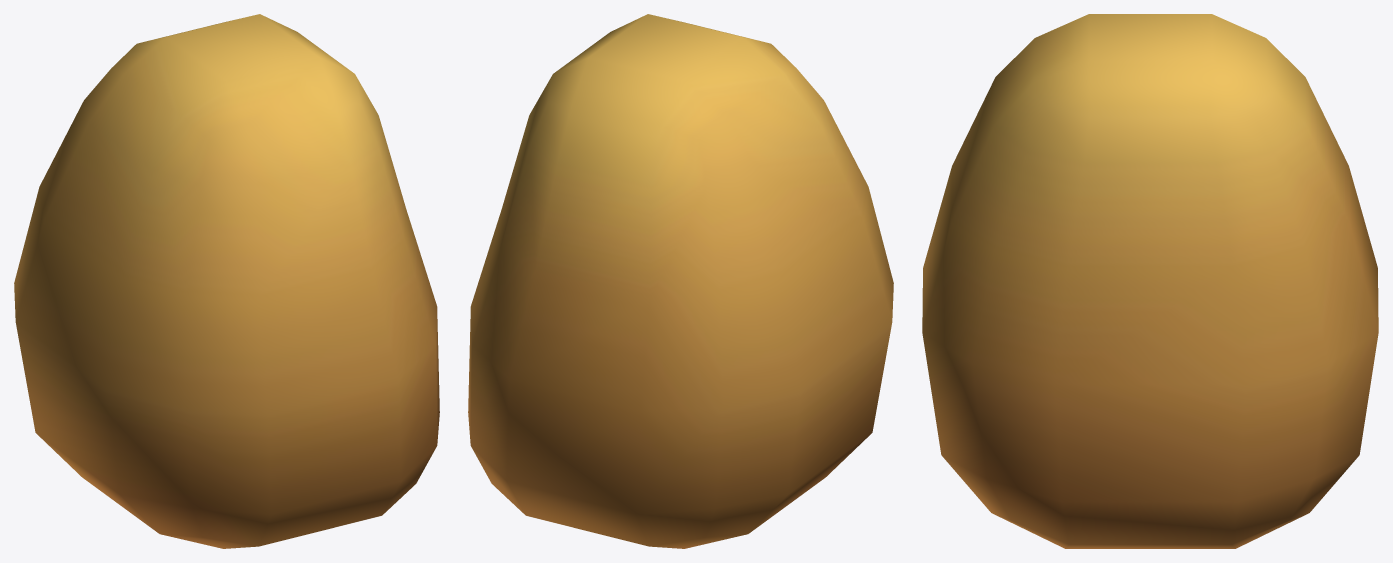
Rendered from potatis.glb.
The picture shows the model from 3 angles, left to right: view 1: azimuth 30°, elevation 25°; view 2: azimuth 150°, elevation 25°; view 3: azimuth 270°, elevation 25°; orthographic projection. The views are drawn at different scales.
Visible parts, largest first — view 1: food_ingredient_potato; view 2: food_ingredient_potato; view 3: food_ingredient_potato.
Boxes of the visible parts, bbox=[...] form: food_ingredient_potato: bbox=[14, 14, 439, 548]; food_ingredient_potato: bbox=[468, 14, 893, 548]; food_ingredient_potato: bbox=[922, 14, 1378, 548].
Size of the model in its own units: 0.6 by 0.78 by 0.68.
1 material, 1 textured.
